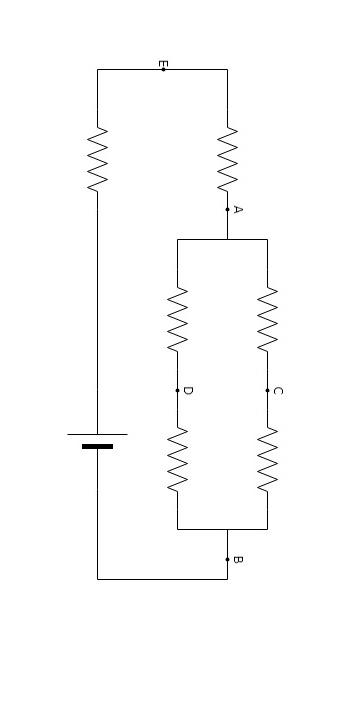resistor: (129, 265, 204, 373), (60, 111, 127, 231), (191, 100, 252, 211), (237, 259, 292, 365), (237, 410, 294, 506), (150, 400, 198, 508)
